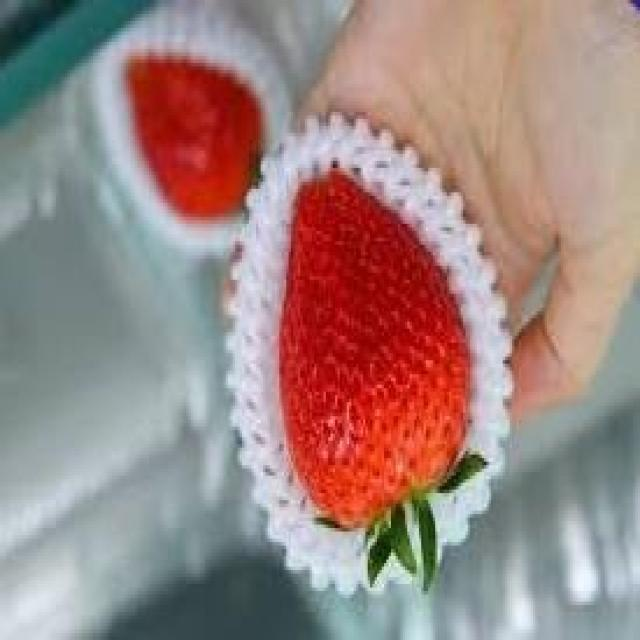mature: (280, 171, 470, 529)
